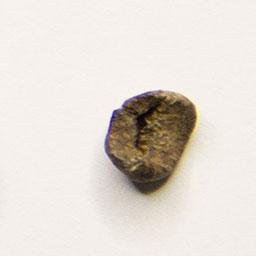defect: (100, 86, 201, 191)
